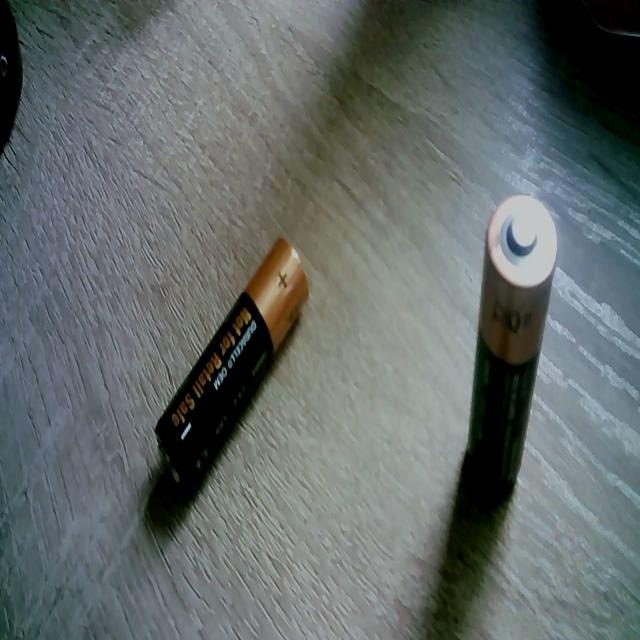AA: (153, 235, 310, 498), (465, 192, 558, 492)
